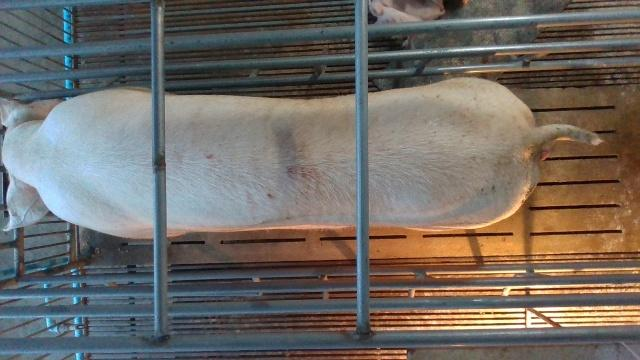sow-stand-feed: (0, 77, 606, 240)
